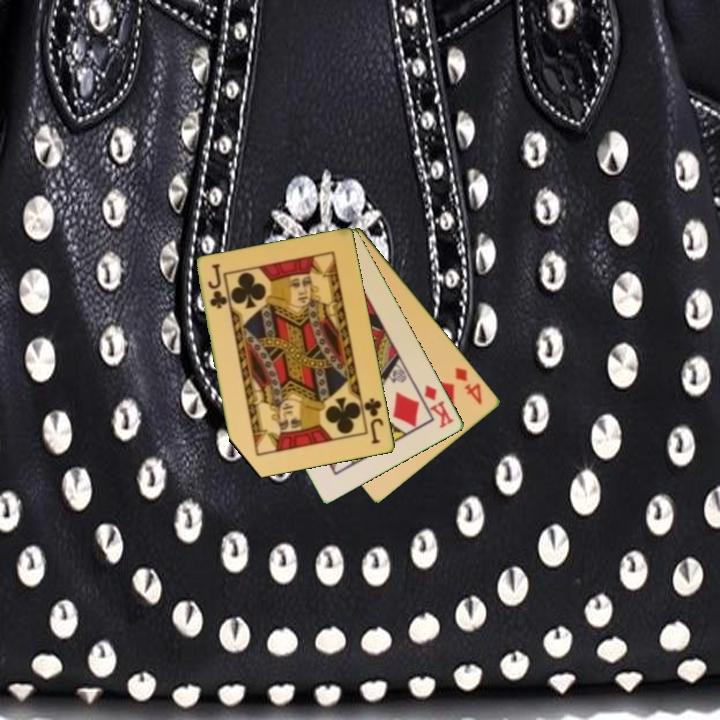4d: (451, 364, 486, 408)
Jc: (361, 394, 387, 447), (205, 261, 229, 312)
Kd: (421, 381, 458, 431)
